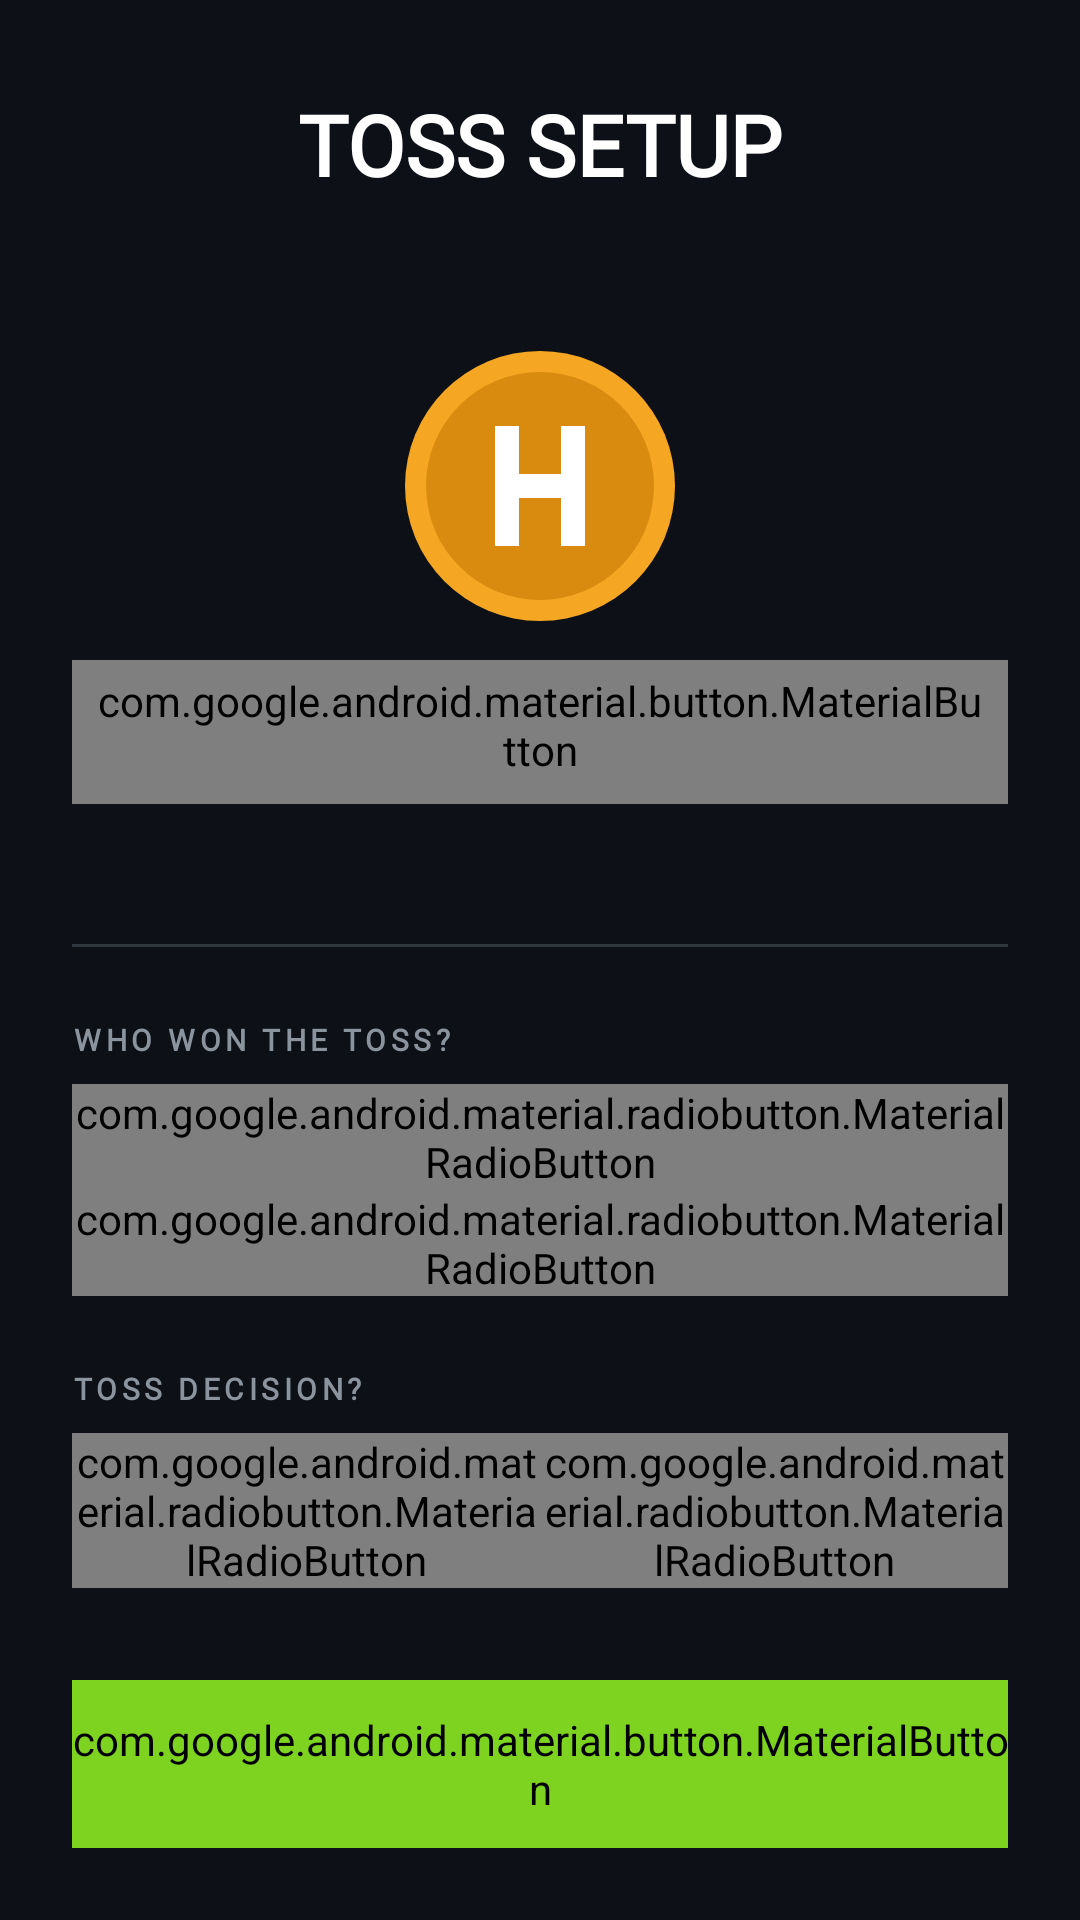

Point at icon controls on the screen. Image size 1080*1920, points as (x=x, y=y).
Coin: (x=540, y=486)
